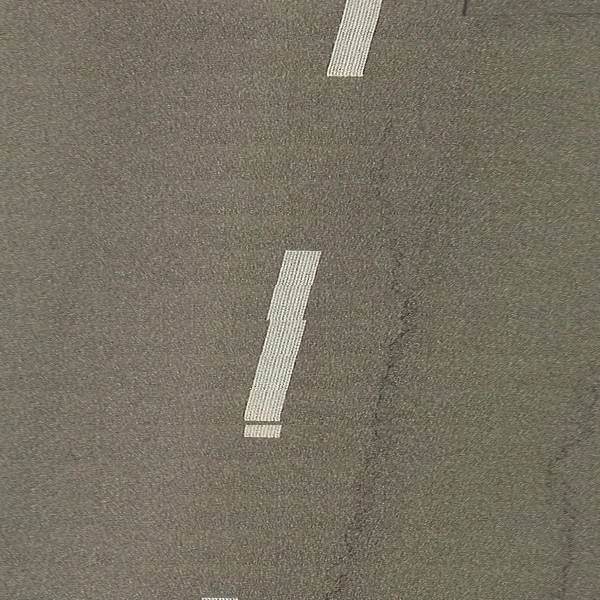road_damage: (342, 257, 436, 559), (537, 407, 600, 585)
